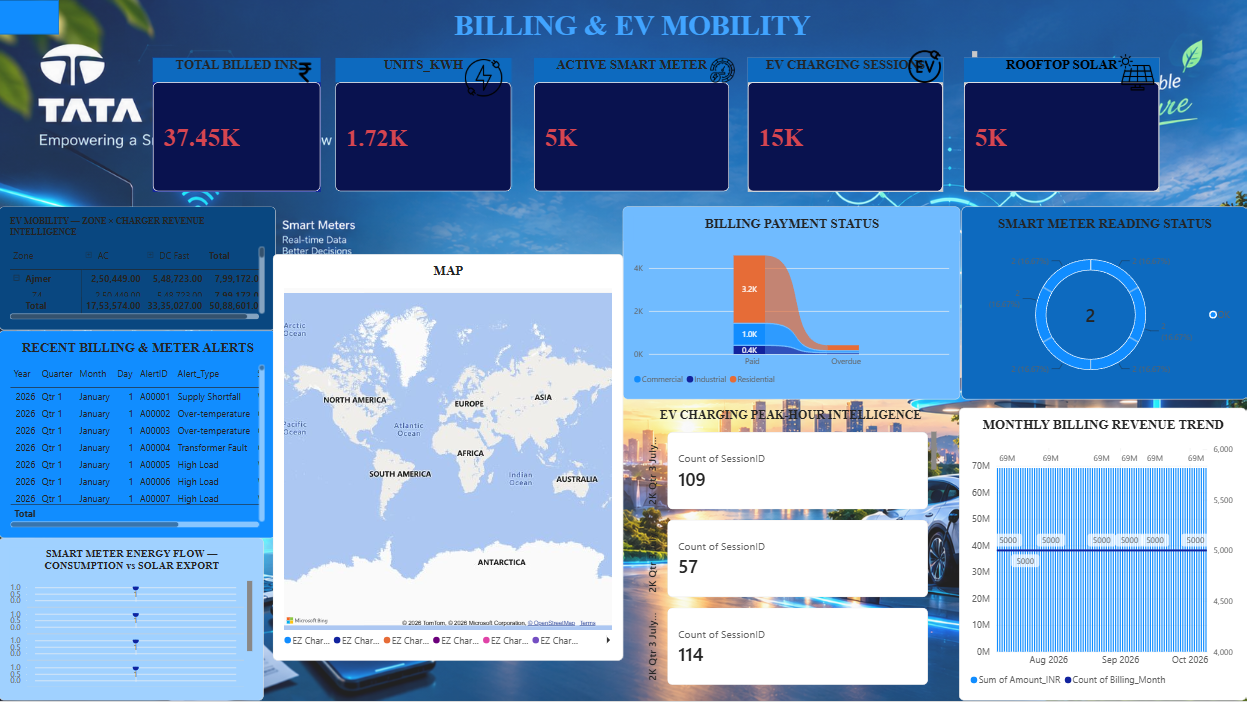

Layout of this report page (visuals, bound fields, positions):
{"tool":"powerbi","page":{"name":"BILLING & EV MOBILITY","canvas":[1920,1080],"ordinal":2},"visuals":[{"type":"textbox","title":"BILLING & EV MOBILITY","box":[443.4,16.3,1060.5,74.2],"z":0},{"type":"cardVisual","title":"UNITS_KWH","fields":{"Data":["Avg(Fact_Billing.Units_kWh)"]},"box":[517.6,90.5,271.4,206.3],"z":1000},{"type":"cardVisual","title":"TOTAL BILLED INR","fields":{"Data":["Sum(Fact_Billing.Tariff_INR_per_kWh)"]},"box":[237.1,90.5,258.8,206.3],"z":2000},{"type":"cardVisual","title":"ACTIVE SMART  METER","fields":{"Data":["CountNonNull(Fact_Billing.Smart_Meter)"]},"box":[823.4,90.5,300.4,206.3],"z":3000},{"type":"cardVisual","title":"EV CHARGING SESSIONS","fields":{"Data":["Fact_Session.EV Sessions"]},"box":[1152.8,90.5,300.4,206.3],"z":4000},{"type":"cardVisual","title":"ROOFTOP SOLAR","fields":{"Data":["CountNonNull(Fact_Billing.Rooftop_Solar)"]},"box":[1483.9,90.5,300.4,206.3],"z":5000},{"type":"ribbonChart","title":"BILLING PAYMENT STATUS","fields":{"Category":["Fact_Billing.Payment_Status"],"Series":["Fact_Billing.Customer_Category"],"Y":["CountNonNull(Fact_Billing.Amount_INR)"]},"box":[959.3,318.5,519.4,296.8],"z":6000},{"type":"lineClusteredColumnComboChart","title":"MONTHLY BILLING REVENUE TREND","fields":{"Category":["Dim_Date.Date"],"Y":["Sum(Fact_Billing.Amount_INR)"],"Y2":["CountNonNull(Fact_Billing.Billing_Month)"]},"box":[1477.8,629.6,442.6,450],"z":7000},{"type":"donutChart","title":"SMART METER READING STATUS","fields":{"Category":["Fact_SmartMeter_Live.Reading_Status"],"Series":["Fact_SmartMeter_Live.Power_Factor"],"Y":["Count(Fact_Billing.Smart_Meter)"]},"box":[1481.5,318.5,439.7,296.8],"z":8000},{"type":"tableEx","title":"RECENT BILLING & METER ALERTS","fields":{"Values":["Fact_Alerts.Timestamp.Variation.Date Hierarchy.Year","Fact_Alerts.Timestamp.Variation.Date Hierarchy.Quarter","Fact_Alerts.Timestamp.Variation.Date Hierarchy.Month","Fact_Alerts.Timestamp.Variation.Date Hierarchy.Day","Fact_Alerts.AlertID","Fact_Alerts.Alert_Type","Fact_Alerts.Severity","Dim_Date.Total Capacity MW"]},"box":[0,509.3,425.9,320.4],"z":9000},{"type":"pivotTable","title":"EV MOBILITY — ZONE × CHARGER REVENUE INTELLIGENCE","fields":{"Columns":["Fact_Session.Charger_Type","Fact_Session.Connector_Type","Dim_Ev_Station.Station_Name"],"Rows":["Dim_Ev_Station.Zone","Dim_Ev_Station.ZoneID"],"Values":["Sum(Fact_Session.Revenue_INR)"]},"box":[0,318.5,425.9,190.7],"z":10000},{"type":"stackedAreaChart","title":"SMART METER ENERGY FLOW — CONSUMPTION vs SOLAR EXPORT","fields":{"Category":["Fact_SmartMeter_Live.Timestamp.Variation.Date Hierarchy.Year","Fact_SmartMeter_Live.Timestamp.Variation.Date Hierarchy.Quarter","Fact_SmartMeter_Live.Timestamp.Variation.Date Hierarchy.Month","Fact_SmartMeter_Live.Timestamp.Variation.Date Hierarchy.Day"],"Rows":["Fact_SmartMeter_Live.Voltage_V"],"Y":["CountNonNull(Fact_SmartMeter_Live.Consumption ID)","Sum(Fact_SmartMeter_Live.Solar_Export_kWh)"]},"box":[0,829.6,407.4,250],"z":11000},{"type":"cardVisual","title":"EV CHARGING PEAK-HOUR INTELLIGENCE","fields":{"Data":["CountNonNull(Fact_Session.SessionID)"],"Rows":["Fact_Session.Start_Time.Variation.Date Hierarchy.Year","Fact_Session.Start_Time.Variation.Date Hierarchy.Quarter","Fact_Session.Start_Time.Variation.Date Hierarchy.Month","Fact_Session.Start_Time.Variation.Date Hierarchy.Day","Fact_Session.Charger_Type"]},"box":[994.4,629.6,448.1,435.2],"z":12000},{"type":"image","box":[419.8,90.5,103.2,45.2],"z":13000},{"type":"image","box":[702.1,90.5,86.9,61.5],"z":14000},{"type":"image","box":[1072.2,90.7,79.6,38],"z":15000},{"type":"image","box":[1398.1,79.6,52.5,50.7],"z":16000},{"type":"image","box":[1715.6,83.2,68.8,59.7],"z":17000},{"type":"shape","box":[0,1.8,92.3,52.5],"z":18000},{"type":"filledMap","title":" MAP","fields":{"Series":["Dim_Ev_Station.Station_Name"],"Y":["Sum(Dim_Ev_Station.Latitude)"]},"box":[420.4,392.6,538.9,625.9],"z":18001}]}

Visuals, with their boxes in screenshot pixels (x1, y1, x2, y2), scaled from the page's 1920x1080 canvas onto the 1247x702 screenshot:
"BILLING & EV MOBILITY" textbox: x1=288, y1=11, x2=977, y2=59
"UNITS_KWH" cardVisual: x1=336, y1=59, x2=512, y2=193
"TOTAL BILLED INR" cardVisual: x1=154, y1=59, x2=322, y2=193
"ACTIVE SMART  METER" cardVisual: x1=535, y1=59, x2=730, y2=193
"EV CHARGING SESSIONS" cardVisual: x1=749, y1=59, x2=944, y2=193
"ROOFTOP SOLAR" cardVisual: x1=964, y1=59, x2=1159, y2=193
"BILLING PAYMENT STATUS" ribbonChart: x1=623, y1=207, x2=960, y2=400
"MONTHLY BILLING REVENUE TREND" lineClusteredColumnComboChart: x1=960, y1=409, x2=1246, y2=701
"SMART METER READING STATUS" donutChart: x1=962, y1=207, x2=1246, y2=400
"RECENT BILLING & METER ALERTS" tableEx: x1=0, y1=331, x2=277, y2=539
"EV MOBILITY — ZONE × CHARGER REVENUE INTELLIGENCE" pivotTable: x1=0, y1=207, x2=277, y2=331
"SMART METER ENERGY FLOW — CONSUMPTION vs SOLAR EXPORT" stackedAreaChart: x1=0, y1=539, x2=265, y2=701
"EV CHARGING PEAK-HOUR INTELLIGENCE" cardVisual: x1=646, y1=409, x2=937, y2=692
image: x1=273, y1=59, x2=340, y2=88
image: x1=456, y1=59, x2=512, y2=99
image: x1=696, y1=59, x2=748, y2=84
image: x1=908, y1=52, x2=942, y2=85
image: x1=1114, y1=54, x2=1159, y2=93
shape: x1=0, y1=1, x2=60, y2=35
" MAP" filledMap: x1=273, y1=255, x2=623, y2=662
